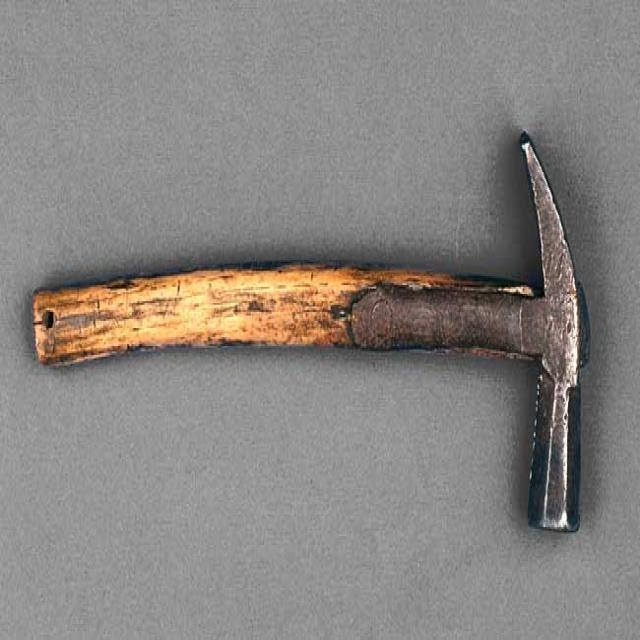hammer: (27, 120, 593, 542)
